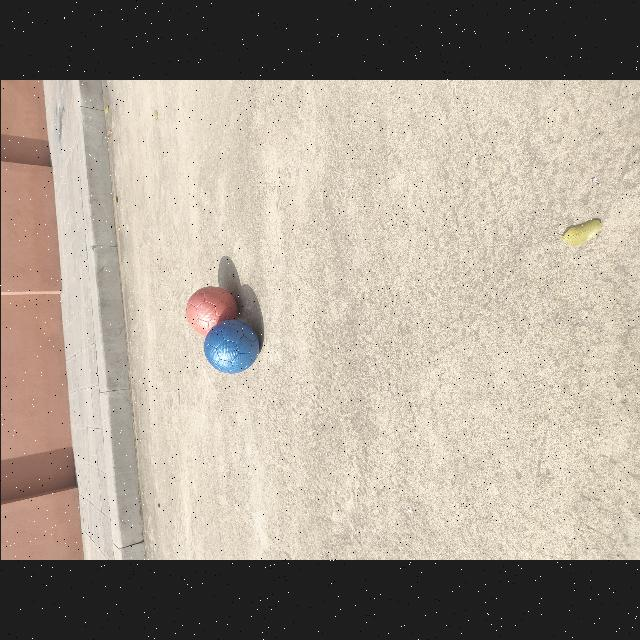B: (203, 320, 259, 374)
R: (184, 286, 236, 335)
